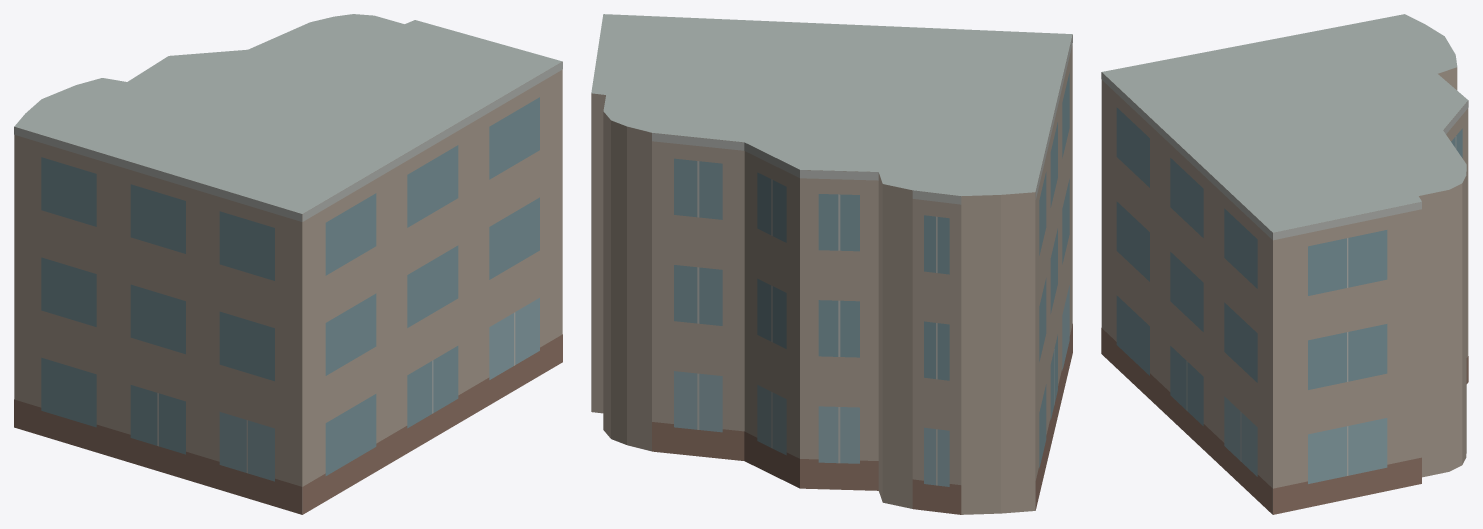
The model's file is survey-upis-32806785.glb.
3 views of the same model, side by side, from view 1: azimuth 30°, elevation 25°; view 2: azimuth 150°, elevation 25°; view 3: azimuth 270°, elevation 25° (orthographic). The views are drawn at different scales.
Parts seen in each view (by area): view 1: survey-upis-32806785.tmp; view 2: survey-upis-32806785.tmp; view 3: survey-upis-32806785.tmp.
Boxes of the visible parts, x1=… form: survey-upis-32806785.tmp: x1=14, y1=14, x2=562, y2=514; survey-upis-32806785.tmp: x1=591, y1=14, x2=1072, y2=514; survey-upis-32806785.tmp: x1=1101, y1=14, x2=1468, y2=514.
Bounding box in the file's own units: 15.23 × 9.15 × 10.79.
